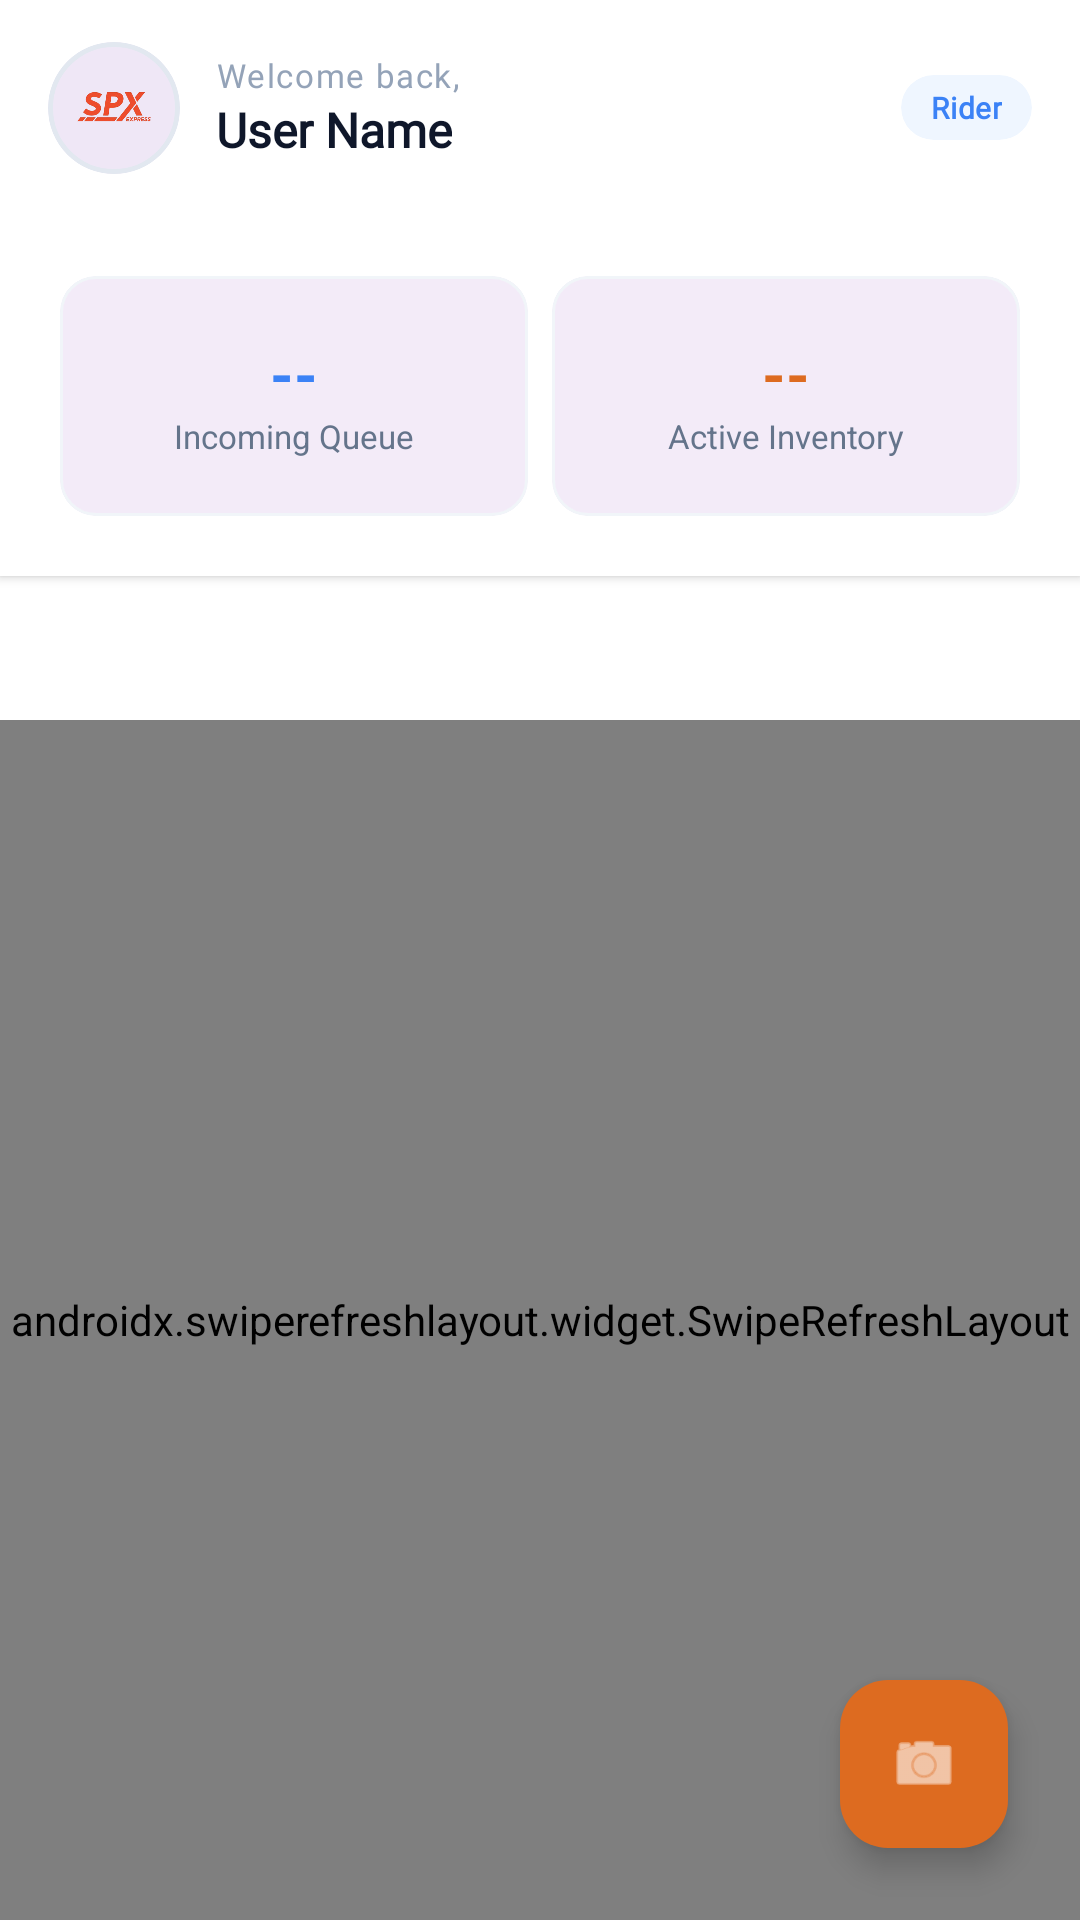

Screen size 1080*1920. Icon name, then its box in pixels as (left=x1, top=y1, right=x2, bottom=y2):
camera: (left=840, top=1680, right=1008, bottom=1848)
